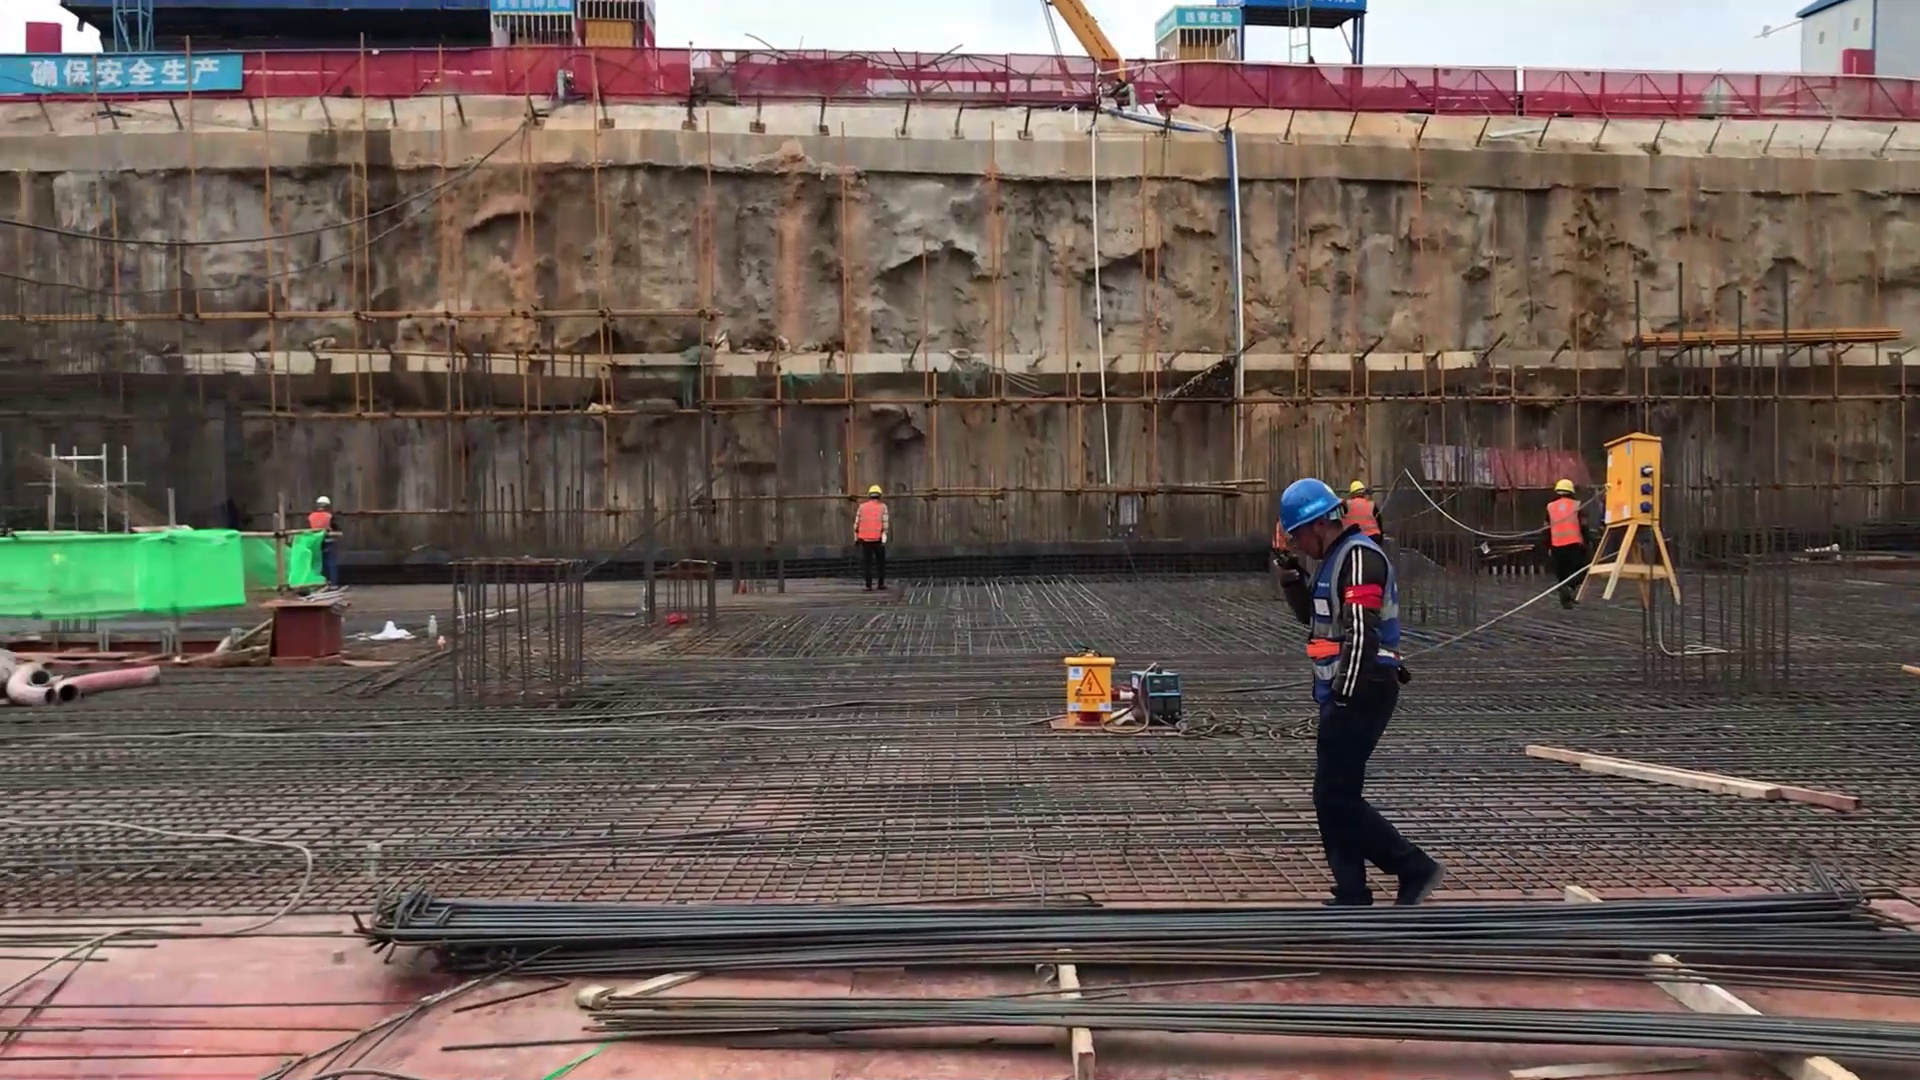ebox: (1580, 406, 1694, 626), (1048, 630, 1194, 764)
fence: (258, 25, 1913, 151)
helmet: (1274, 475, 1335, 536), (1547, 478, 1580, 495), (864, 476, 889, 499), (1348, 480, 1374, 493), (313, 491, 332, 506)
person: (1258, 474, 1454, 908), (1539, 472, 1596, 622), (847, 480, 900, 595), (305, 489, 343, 530)
rebar: (327, 833, 1897, 1014), (593, 975, 1918, 1080)
slogan: (1, 16, 255, 123), (1172, 1, 1261, 54)
vest: (1301, 528, 1413, 700), (1537, 499, 1592, 556), (1343, 496, 1383, 542), (854, 502, 894, 545), (307, 511, 340, 530)
